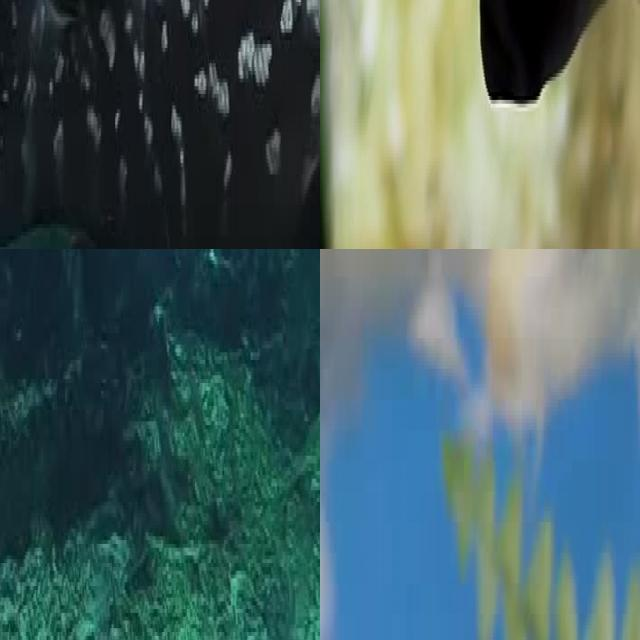fish: (0, 0, 320, 249), (320, 249, 512, 468)
